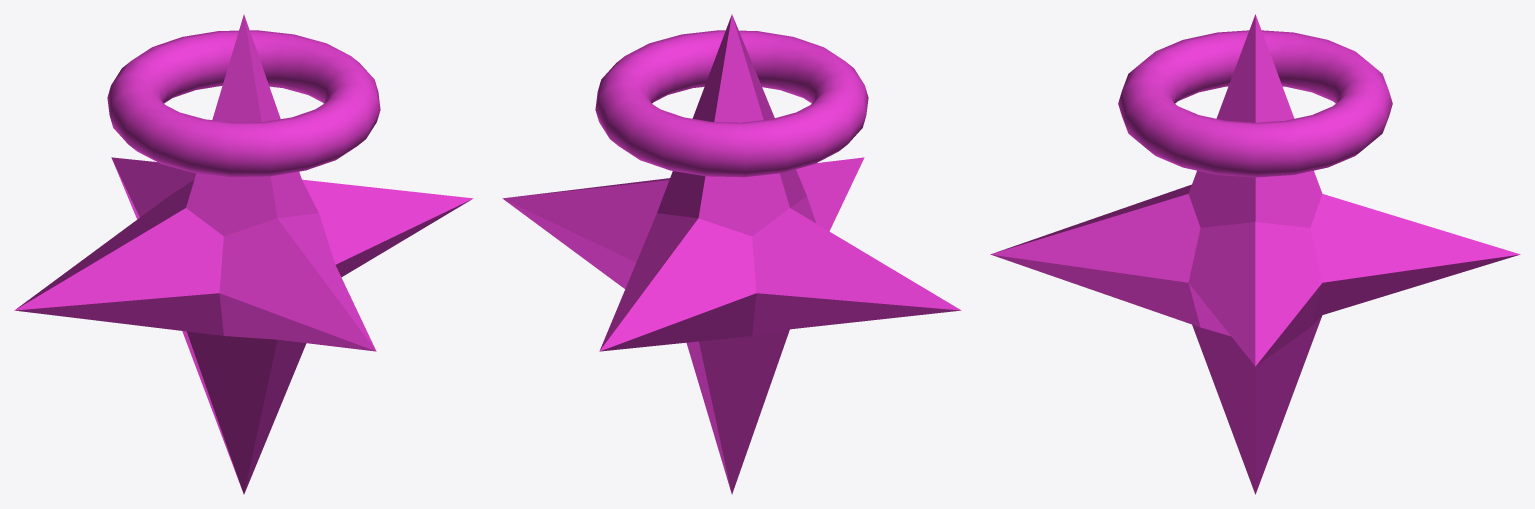
File: Good Wishes.fbx
3 renders of one model, left to right at view 1: azimuth 30°, elevation 25°; view 2: azimuth 150°, elevation 25°; view 3: azimuth 270°, elevation 25°, orthographic.
Visible parts, largest first — view 1: Wish Good; view 2: Wish Good; view 3: Wish Good.
Part boxes in pixels (left/top/right/bottom): Wish Good: left=14, top=14, right=473, bottom=494; Wish Good: left=502, top=14, right=961, bottom=494; Wish Good: left=990, top=14, right=1520, bottom=494.
Size of the model in its own units: 483 by 483 by 483.
